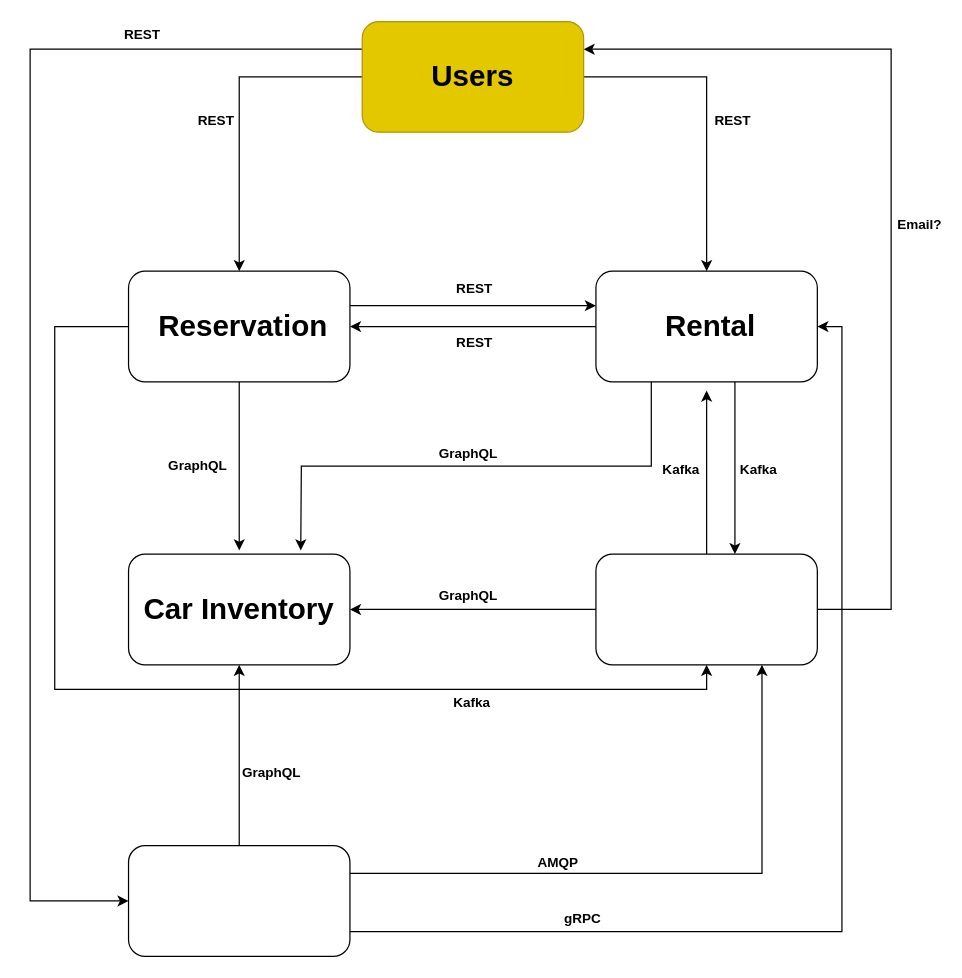
Image size: 962x978. Some labels were removed from this diagram. Each missing label, with the box of its shape:
Billing: (595, 553, 817, 665)
Return: (127, 844, 350, 956)
